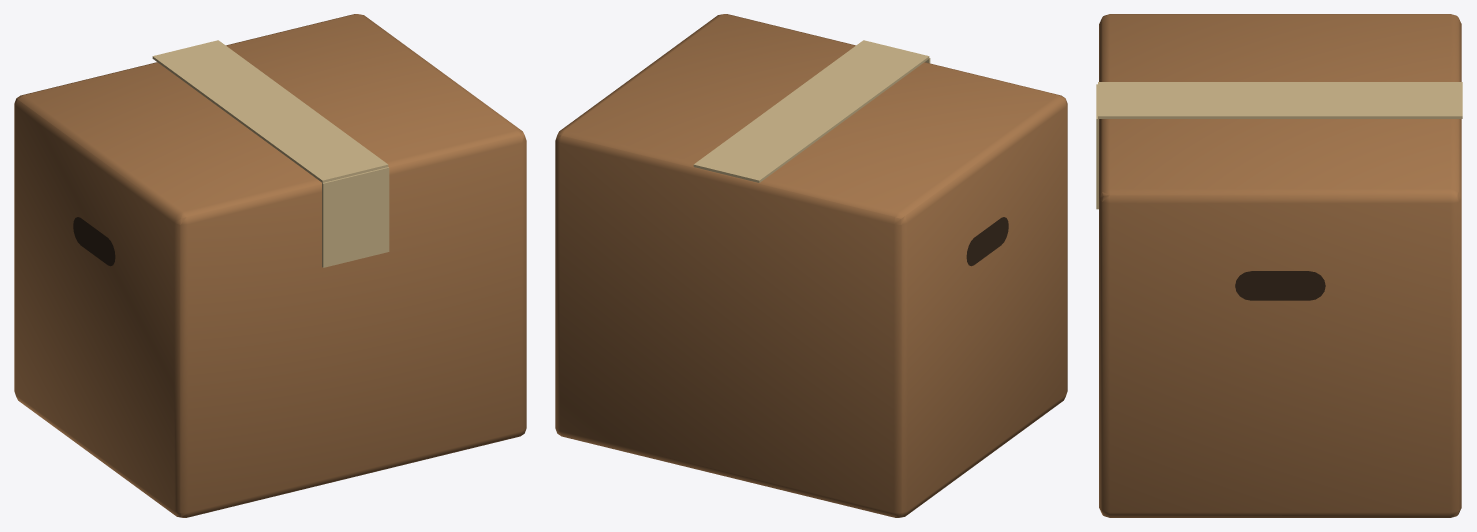
File: MovingBoxX01.glb
The picture shows the model from 3 angles, left to right: view 1: azimuth 30°, elevation 25°; view 2: azimuth 150°, elevation 25°; view 3: azimuth 270°, elevation 25°; orthographic projection. The views are drawn at different scales.
Visible parts, largest first — view 1: Body_Cardboard, Body_Tape, Body_Holes; view 2: Body_Cardboard, Body_Tape, Body_Holes; view 3: Body_Cardboard, Body_Tape, Body_Holes.
Boxes of the visible parts, <box> form: Body_Cardboard: <box>14,14,526,517</box>; Body_Tape: <box>152,40,389,267</box>; Body_Holes: <box>73,217,115,266</box>; Body_Cardboard: <box>555,14,1067,517</box>; Body_Tape: <box>693,40,930,182</box>; Body_Holes: <box>966,217,1008,266</box>; Body_Cardboard: <box>1099,14,1461,517</box>; Body_Tape: <box>1096,82,1462,209</box>; Body_Holes: <box>1235,271,1325,300</box>.
Size of the model in its own units: 2.41 by 2.02 by 2.02.
